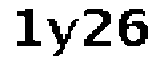1: (11, 5, 43, 51)
2: (82, 5, 114, 50)
6: (117, 4, 150, 50)
y: (45, 16, 80, 60)
